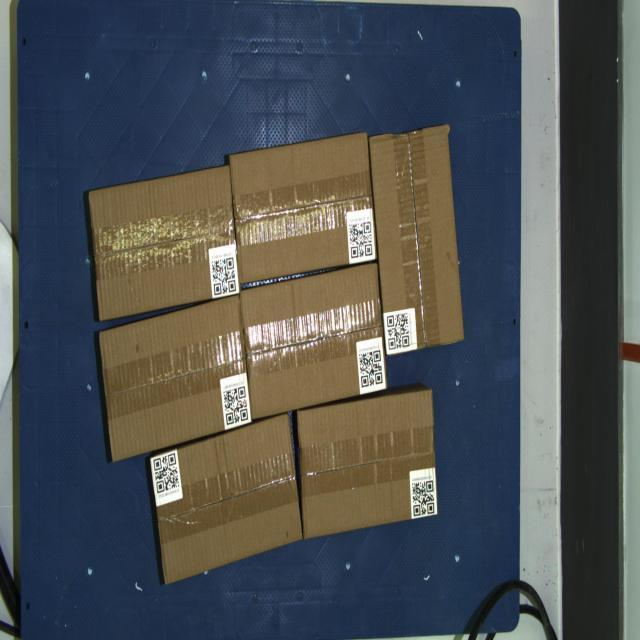box: (150, 413, 303, 584), (100, 294, 252, 462), (88, 164, 240, 322), (240, 262, 388, 420), (229, 132, 377, 284), (370, 124, 464, 356), (297, 390, 439, 540)
